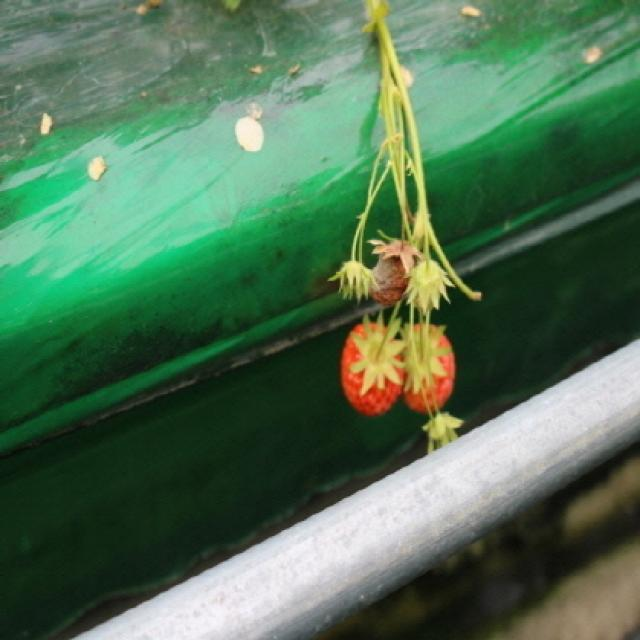Gray Mold: (366, 230, 421, 305)
